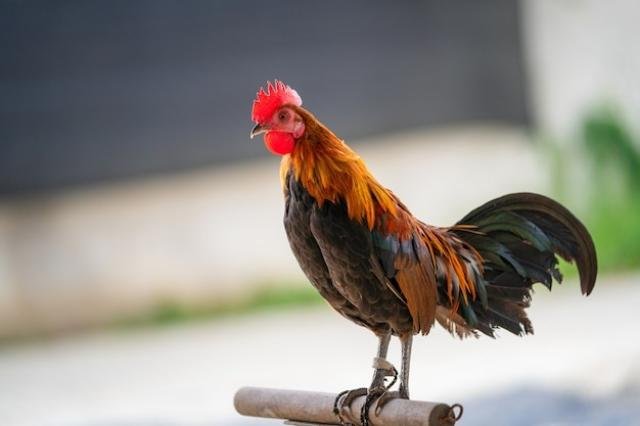Chicken: (249, 81, 599, 419)
